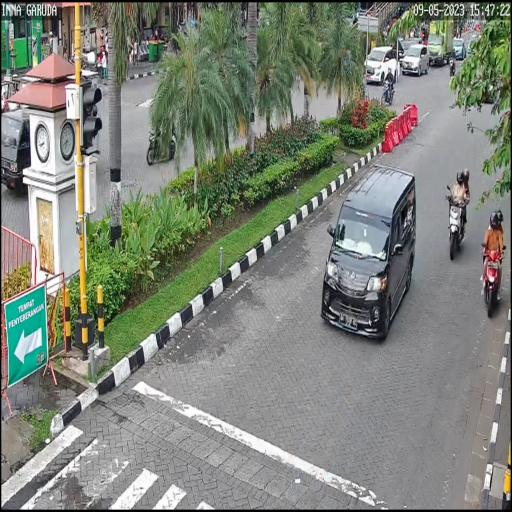mobil: (320, 164, 418, 342)
motor: (479, 230, 508, 319), (443, 186, 468, 264)
